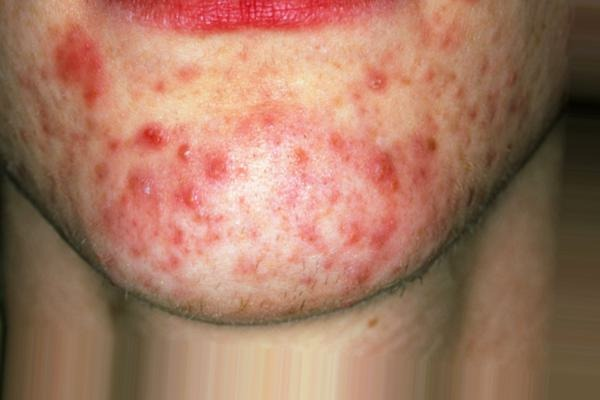Acne: (126, 170, 159, 206), (174, 182, 206, 214), (176, 136, 198, 164)
